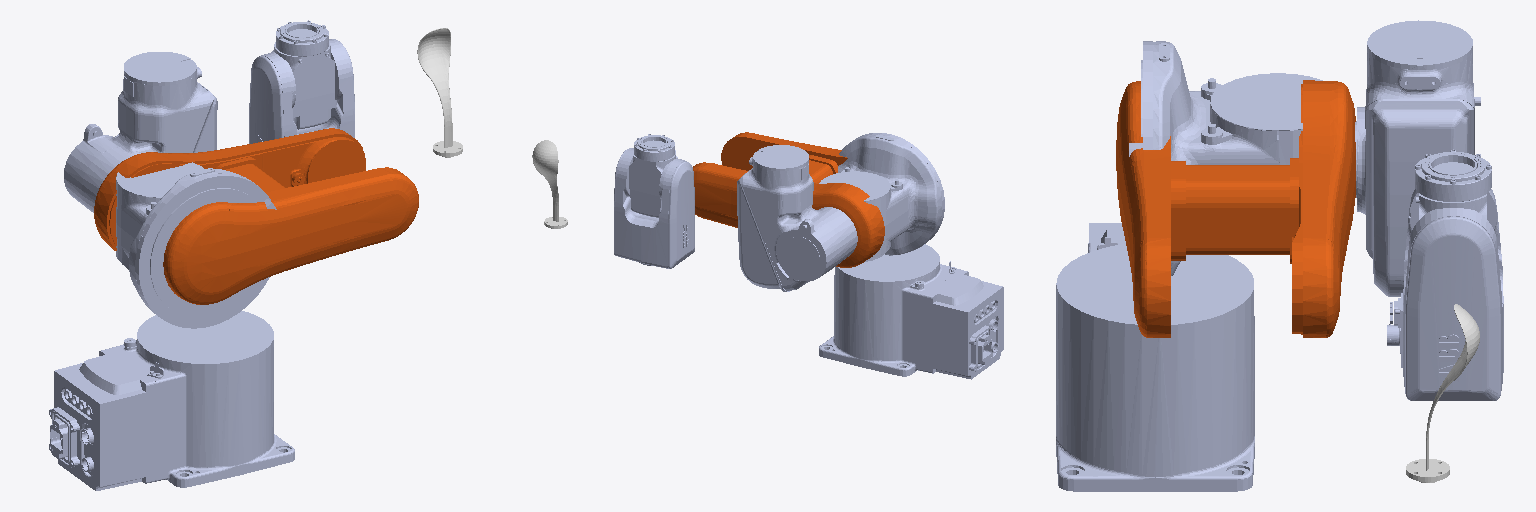
URDF robot description (IRB120_3-58_IRC5_rev1.SLDASM):
<?xml version="1.0" encoding="utf-8"?>
<!-- This URDF was automatically created by SolidWorks to URDF Exporter! Originally created by [author] ([email redacted]) 
     Commit Version: 1.5.1-0-g916b5db  Build Version: 1.5.7152.31018
     For more information, please see http://wiki.ros.org/sw_urdf_exporter -->
<robot
  name="IRB120_3-58_IRC5_rev1.SLDASM">
  <link
    name="base_link">
    <inertial>
      <origin
        xyz="-0.042039 8.0122E-05 0.079638"
        rpy="0 0 0" />
      <mass
        value="6.215" />
      <inertia
        ixx="0.024621"
        ixy="2.5781E-05"
        ixz="-0.00023172"
        iyy="0.027034"
        iyz="5.6467E-06"
        izz="0.025199" />
    </inertial>
    <visual>
      <origin
        xyz="0 0 0"
        rpy="0 0 0" />
      <geometry>
        <mesh
          filename="package://IRB120_3-58_IRC5_rev1.SLDASM/meshes/base_link.STL" />
      </geometry>
      <material
        name="">
        <color
          rgba="0.79216 0.81961 0.93333 1" />
      </material>
    </visual>
    <collision>
      <origin
        xyz="0 0 0"
        rpy="0 0 0" />
      <geometry>
        <mesh
          filename="package://IRB120_3-58_IRC5_rev1.SLDASM/meshes/base_link.STL" />
      </geometry>
    </collision>
  </link>
  <link
    name="link_1">
    <inertial>
      <origin
        xyz="9.7674E-05 0.059412 0.0001193"
        rpy="0 0 0" />
      <mass
        value="3.067" />
      <inertia
        ixx="0.012269"
        ixy="6.064E-08"
        ixz="6.5514E-08"
        iyy="0.01042"
        iyz="1.0232E-05"
        izz="0.012436" />
    </inertial>
    <visual>
      <origin
        xyz="0 0 0"
        rpy="0 0 0" />
      <geometry>
        <mesh
          filename="package://IRB120_3-58_IRC5_rev1.SLDASM/meshes/link_1.STL" />
      </geometry>
      <material
        name="">
        <color
          rgba="0.79216 0.81961 0.93333 1" />
      </material>
    </visual>
    <collision>
      <origin
        xyz="0 0 0"
        rpy="0 0 0" />
      <geometry>
        <mesh
          filename="package://IRB120_3-58_IRC5_rev1.SLDASM/meshes/link_1.STL" />
      </geometry>
    </collision>
  </link>
  <joint
    name="joint_1"
    type="revolute">
    <origin
      xyz="0 0 0.29"
      rpy="0 0 0" />
    <parent
      link="base_link" />
    <child
      link="link_1" />
    <axis
      xyz="0 0 1" />
    <limit
      lower="-2.8798"
      upper="2.8798"
      effort="0"
      velocity="4.3633" />
  </joint>
  <link
    name="link_2">
    <inertial>
      <origin
        xyz="0.00077829 0.10124 0.075617"
        rpy="0 0 0" />
      <mass
        value="3.9087" />
      <inertia
        ixx="0.038125"
        ixy="-2.3951E-07"
        ixz="-6.5834E-07"
        iyy="0.0047264"
        iyz="2.4476E-05"
        izz="0.040576" />
    </inertial>
    <visual>
      <origin
        xyz="0 0 0"
        rpy="0 0 0" />
      <geometry>
        <mesh
          filename="package://IRB120_3-58_IRC5_rev1.SLDASM/meshes/link_2.STL" />
      </geometry>
      <material
        name="">
        <color
          rgba="0.8902 0.41176 0.13333 1" />
      </material>
    </visual>
    <collision>
      <origin
        xyz="0 0 0"
        rpy="0 0 0" />
      <geometry>
        <mesh
          filename="package://IRB120_3-58_IRC5_rev1.SLDASM/meshes/link_2.STL" />
      </geometry>
    </collision>
  </link>
  <joint
    name="joint_2"
    type="revolute">
    <origin
      xyz="0 0 0"
      rpy="0 -1.5708 -1.5708" />
    <parent
      link="link_1" />
    <child
      link="link_2" />
    <axis
      xyz="0 0 1" />
    <limit
      lower="-1.9199"
      upper="1.9199"
      effort="0"
      velocity="4.3633" />
  </joint>
  <link
    name="link_3">
    <inertial>
      <origin
        xyz="0.022811 0.057909 -0.031065"
        rpy="0 0 0" />
      <mass
        value="2.9435" />
      <inertia
        ixx="0.0056396"
        ixy="-0.0031991"
        ixz="-0.00012137"
        iyy="0.0109"
        iyz="-0.00011295"
        izz="0.012202" />
    </inertial>
    <visual>
      <origin
        xyz="0 0 0"
        rpy="0 0 0" />
      <geometry>
        <mesh
          filename="package://IRB120_3-58_IRC5_rev1.SLDASM/meshes/link_3.STL" />
      </geometry>
      <material
        name="">
        <color
          rgba="0.79216 0.81961 0.93333 1" />
      </material>
    </visual>
    <collision>
      <origin
        xyz="0 0 0"
        rpy="0 0 0" />
      <geometry>
        <mesh
          filename="package://IRB120_3-58_IRC5_rev1.SLDASM/meshes/link_3.STL" />
      </geometry>
    </collision>
  </link>
  <joint
    name="joint_3"
    type="revolute">
    <origin
      xyz="0 0 0.27"
      rpy="0 0 0" />
    <parent
      link="link_2" />
    <child
      link="link_3" />
    <axis
      xyz="0 0 1" />
    <limit
      lower="-1.9199"
      upper="1.2217"
      effort="0"
      velocity="4.3633" />
  </joint>
  <link
    name="link_4">
    <inertial>
      <origin
        xyz="-0.077391 0.00040577 -0.000217"
        rpy="0 0 0" />
      <mass
        value="1.3248" />
      <inertia
        ixx="0.0010405"
        ixy="5.694E-06"
        ixz="4.6804E-05"
        iyy="0.0033497"
        iyz="-8.3796E-07"
        izz="0.0038744" />
    </inertial>
    <visual>
      <origin
        xyz="0 0 0"
        rpy="0 0 0" />
      <geometry>
        <mesh
          filename="package://IRB120_3-58_IRC5_rev1.SLDASM/meshes/link_4.STL" />
      </geometry>
      <material
        name="">
        <color
          rgba="0.79216 0.81961 0.93333 1" />
      </material>
    </visual>
    <collision>
      <origin
        xyz="0 0 0"
        rpy="0 0 0" />
      <geometry>
        <mesh
          filename="package://IRB120_3-58_IRC5_rev1.SLDASM/meshes/link_4.STL" />
      </geometry>
    </collision>
  </link>
  <joint
    name="joint_4"
    type="revolute">
    <origin
      xyz="0.07 0.302 0"
      rpy="-1.5708 0 0" />
    <parent
      link="link_3" />
    <child
      link="link_4" />
    <axis
      xyz="0 0 1" />
    <limit
      lower="-2.7925"
      upper="2.7925"
      effort="0"
      velocity="5.5851" />
  </joint>
  <link
    name="link_5">
    <inertial>
      <origin
        xyz="-0.0010948 6.2217E-05 -3.6852E-05"
        rpy="0 0 0" />
      <mass
        value="0.54663" />
      <inertia
        ixx="0.00040458"
        ixy="-4.2563E-07"
        ixz="1.8447E-06"
        iyy="0.00029001"
        iyz="-8.5802E-09"
        izz="0.00036748" />
    </inertial>
    <visual>
      <origin
        xyz="0 0 0"
        rpy="0 0 0" />
      <geometry>
        <mesh
          filename="package://IRB120_3-58_IRC5_rev1.SLDASM/meshes/link_5.STL" />
      </geometry>
      <material
        name="">
        <color
          rgba="0.79216 0.81961 0.93333 1" />
      </material>
    </visual>
    <collision>
      <origin
        xyz="0 0 0"
        rpy="0 0 0" />
      <geometry>
        <mesh
          filename="package://IRB120_3-58_IRC5_rev1.SLDASM/meshes/link_5.STL" />
      </geometry>
    </collision>
  </link>
  <joint
    name="joint_5"
    type="revolute">
    <origin
      xyz="0 0 0"
      rpy="1.5708 0 0" />
    <parent
      link="link_4" />
    <child
      link="link_5" />
    <axis
      xyz="0 0 1" />
    <limit
      lower="-2.0944"
      upper="2.0944"
      effort="0"
      velocity="5.5851" />
  </joint>
  <link
    name="link_6">
    <inertial>
      <origin
        xyz="-1.3237E-06 -0.00016958 -0.0059379"
        rpy="0 0 0" />
      <mass
        value="0.013678" />
      <inertia
        ixx="1.6577E-06"
        ixy="3.0637E-12"
        ixz="-8.915E-11"
        iyy="1.6943E-06"
        iyz="-7.6625E-09"
        izz="2.9768E-06" />
    </inertial>
    <visual>
      <origin
        xyz="0 0 0"
        rpy="0 0 0" />
      <geometry>
        <mesh
          filename="package://IRB120_3-58_IRC5_rev1.SLDASM/meshes/link_6.STL" />
      </geometry>
      <material
        name="">
        <color
          rgba="0.79216 0.81961 0.93333 1" />
      </material>
    </visual>
    <collision>
      <origin
        xyz="0 0 0"
        rpy="0 0 0" />
      <geometry>
        <mesh
          filename="package://IRB120_3-58_IRC5_rev1.SLDASM/meshes/link_6.STL" />
      </geometry>
    </collision>
  </link>
  <joint
    name="joint_6"
    type="revolute">
    <origin
      xyz="0 0 0"
      rpy="-1.5708 0 0" />
    <parent
      link="link_5" />
    <child
      link="link_6" />
    <axis
      xyz="0 0 1" />
    <limit
      lower="-6.9813"
      upper="6.9813"
      effort="0"
      velocity="7.3304" />
  </joint>
  <link
    name="spoon_tool">
    <inertial>
      <origin
        xyz="-0.047629 0.0098548 2.4794E-06"
        rpy="0 0 0" />
      <mass
        value="0.014667" />
      <inertia
        ixx="6.5552E-06"
        ixy="1.4863E-05"
        ixz="-1.7336E-08"
        iyy="5.6566E-05"
        iyz="5.2813E-09"
        izz="6.0147E-05" />
    </inertial>
    <visual>
      <origin
        xyz="0 0 0"
        rpy="0 0 0" />
      <geometry>
        <mesh
          filename="package://IRB120_3-58_IRC5_rev1.SLDASM/meshes/spoon_tool.STL" />
      </geometry>
      <material
        name="">
        <color
          rgba="0.89804 0.89804 0.89804 1" />
      </material>
    </visual>
    <collision>
      <origin
        xyz="0 0 0"
        rpy="0 0 0" />
      <geometry>
        <mesh
          filename="package://IRB120_3-58_IRC5_rev1.SLDASM/meshes/spoon_tool.STL" />
      </geometry>
    </collision>
  </link>
  <joint
    name="tool_joint"
    type="fixed">
    <origin
      xyz="-0.046 0 0.2069"
      rpy="0 0 0" />
    <parent
      link="link_6" />
    <child
      link="spoon_tool" />
    <axis
      xyz="0 0 1" />
  </joint>
</robot>

--- Render facts (derived) ---
The picture shows the robot from 3 angles, left to right: view 1: azimuth 30°, elevation 25°; view 2: azimuth 150°, elevation 25°; view 3: azimuth 270°, elevation 25°; orthographic projection.
Model IRB120_3-58_IRC5_rev1.SLDASM with 8 links and 7 joints (6 revolute, 1 fixed), rooted at base_link, posed all joints at 0.
Visible links, largest first — view 1: base_link, link_2, link_1, link_3, link_4, link_5, spoon_tool; view 2: base_link, link_3, link_1, link_2, link_4, link_5, spoon_tool; view 3: base_link, link_2, link_3, link_4, link_1, link_5, spoon_tool.
Link boxes in pixels (<box>): base_link: <box>49,311,294,490</box>; link_2: <box>94,128,418,304</box>; link_1: <box>116,162,276,328</box>; link_3: <box>64,52,217,212</box>; link_4: <box>249,39,354,143</box>; link_5: <box>272,20,336,129</box>; spoon_tool: <box>417,28,462,157</box>; base_link: <box>819,244,1003,379</box>; link_3: <box>737,145,857,291</box>; link_1: <box>819,133,944,261</box>; link_2: <box>693,132,884,267</box>; link_4: <box>614,148,694,268</box>; link_5: <box>629,134,677,217</box>; spoon_tool: <box>532,140,567,228</box>; base_link: <box>1056,223,1254,491</box>; link_2: <box>1116,80,1355,337</box>; link_3: <box>1355,20,1480,296</box>; link_4: <box>1387,189,1503,400</box>; link_1: <box>1129,41,1322,275</box>; link_5: <box>1415,149,1491,219</box>; spoon_tool: <box>1406,304,1479,482</box>.
Bounding box of the posed robot: 0.7457 × 0.4062 × 0.4396 m (x, y, z).
8 mesh visuals loaded from 8 distinct referenced files (8 binary STL).